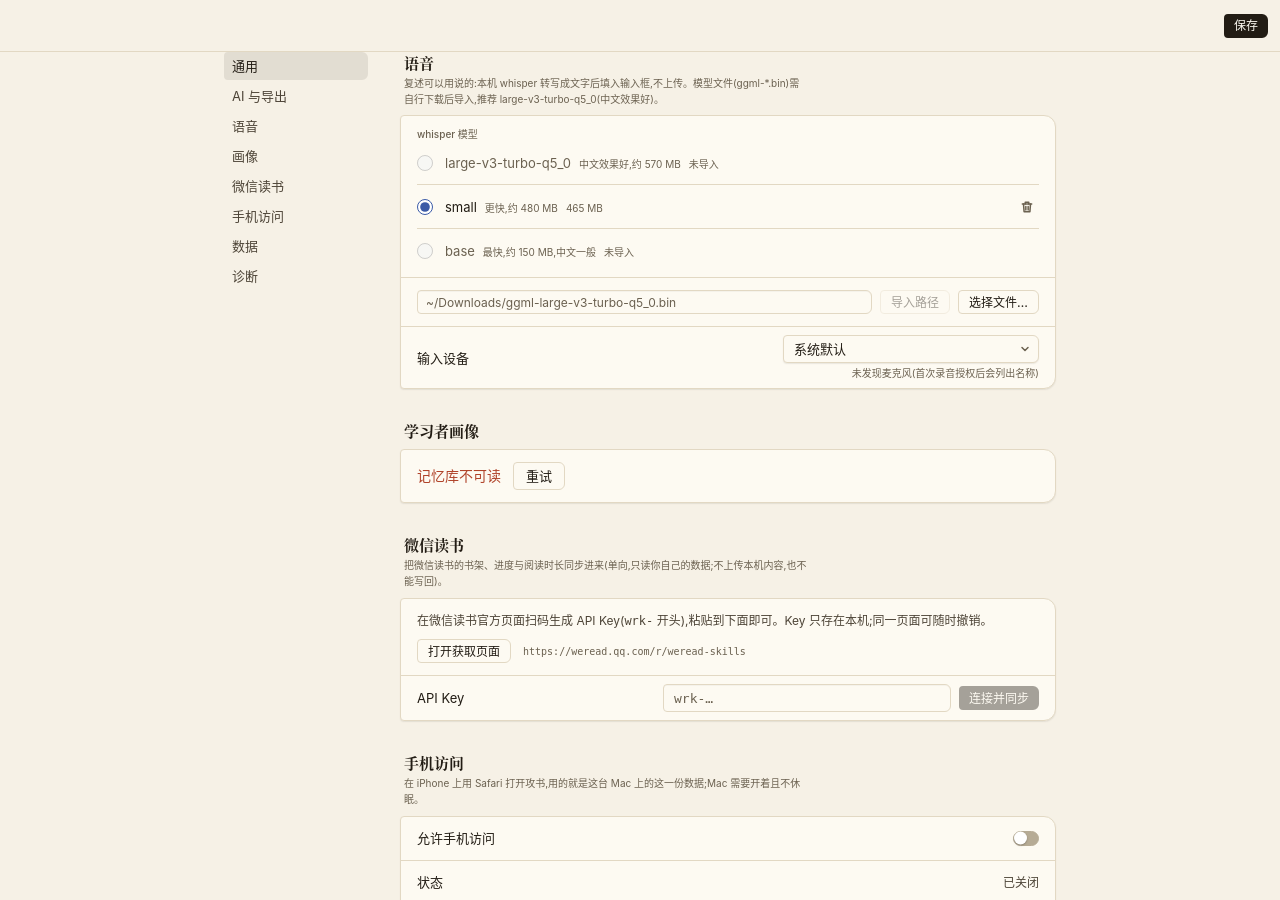
Scenario: 设置页 · 学习者画像(M2 T6) › 画像读取失败不影响设置表单,且可重试
(page scrolled)
Click the button "重试" at [539, 476], box [513,462,565,490]
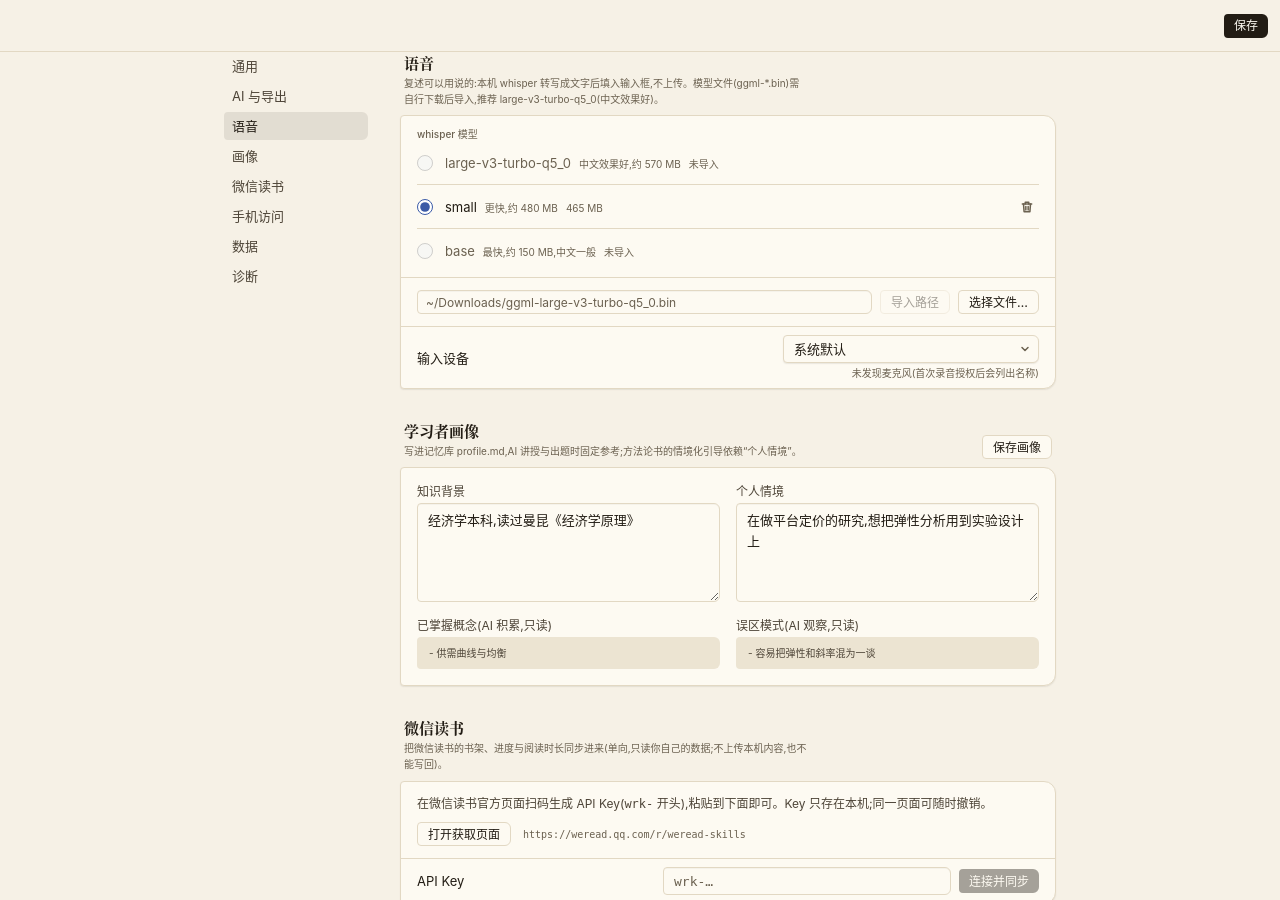
Expected: the text box labelled "知识背景" holds "经济学本科,读过曼昆《经济学原理》", [417,503,720,602]
